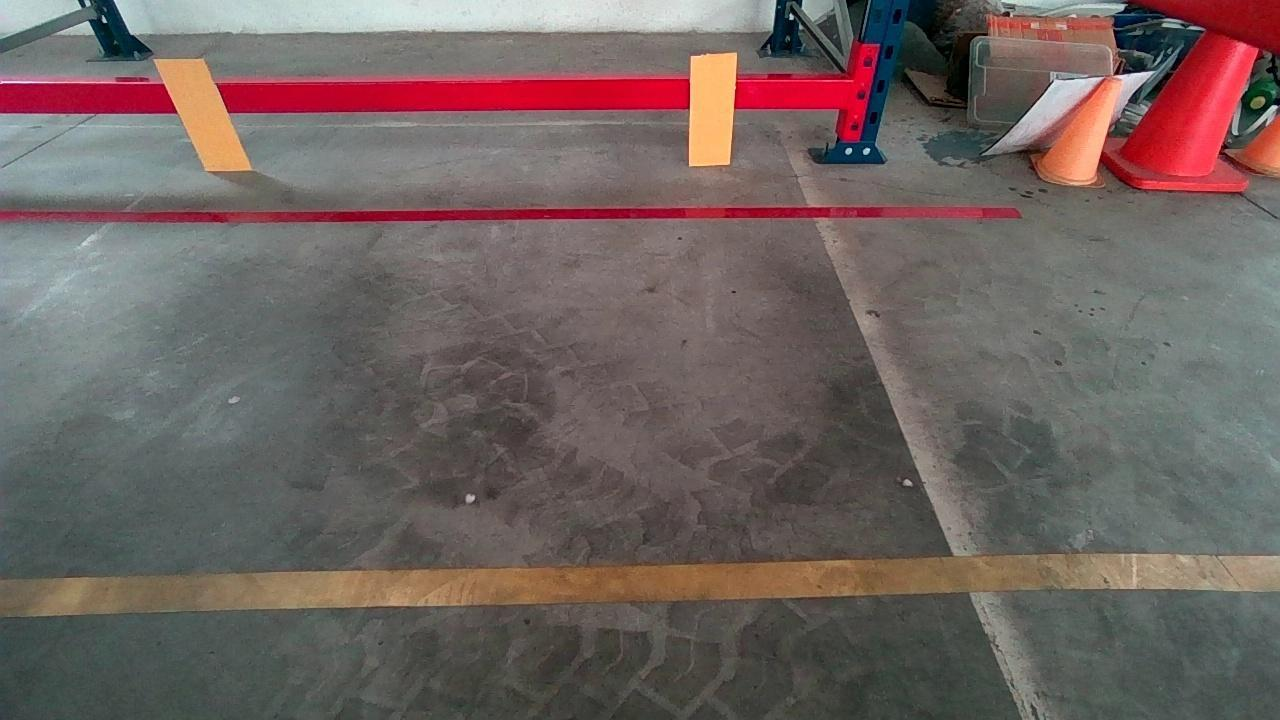h_rack: (5, 65, 846, 117)
orange_strip: (155, 58, 251, 169), (689, 53, 736, 165)
red_line: (11, 196, 1033, 230)
yellow_line: (2, 547, 1274, 619)
